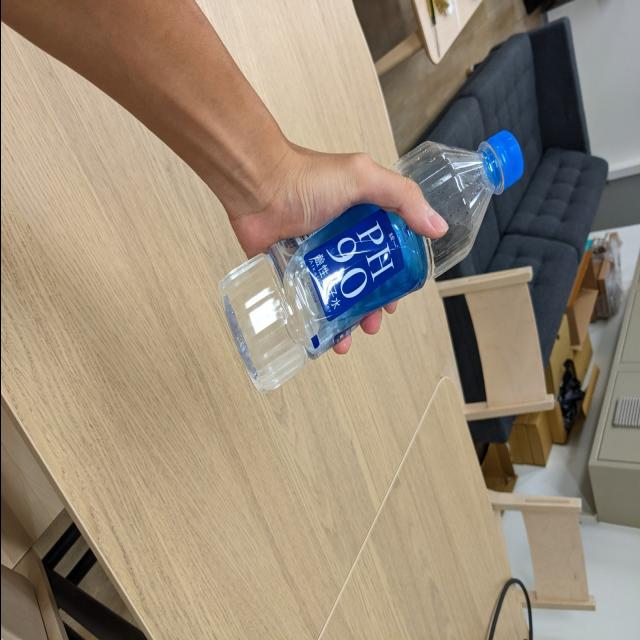寶特瓶: (218, 125, 526, 397)
